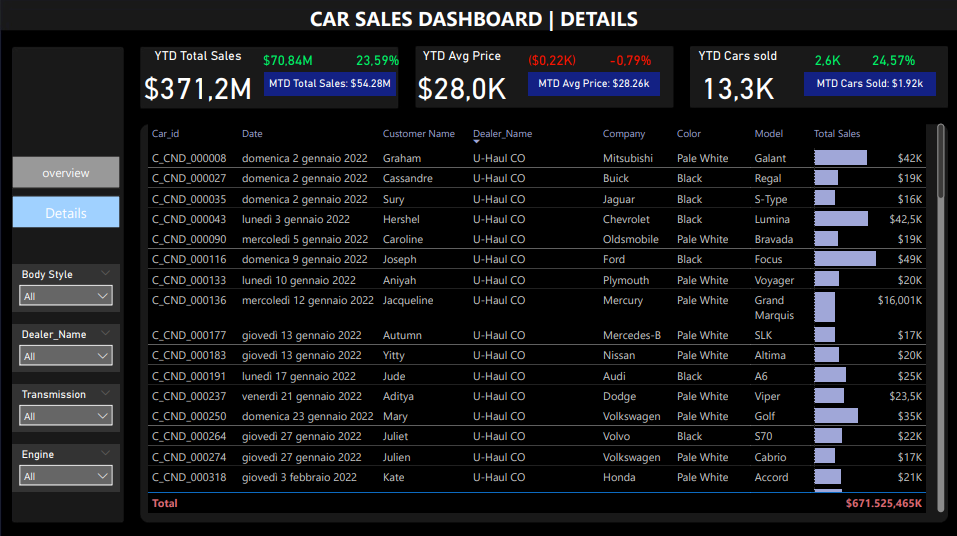

This screenshot's page, from the dashboard's own definition file:
{"tool":"powerbi","page":{"name":"Details","canvas":[1280,720],"ordinal":1},"visuals":[{"type":"card","title":"YTD Total Sales","fields":{"Values":["car_data.Ytd Total Sales"]},"box":[144,64,240,80],"z":0},{"type":"card","fields":{"Values":["car_data.Sales Difference"]},"box":[304,64,160,32],"z":1000},{"type":"card","fields":{"Values":["car_data.YoY sales growth"]},"box":[416,64,176,32],"z":2000},{"type":"card","fields":{"Values":["car_data.MTD KPI"]},"box":[352,96,176,32],"z":3000},{"type":"card","title":"YTD Avg Price","fields":{"Values":["car_data.YTD Avg Price"]},"box":[528,64,176,80],"z":4000},{"type":"card","fields":{"Values":["car_data.Avg price diff"]},"box":[656,64,160,32],"z":5000},{"type":"card","fields":{"Values":["car_data.YoY Avg Price Growth"]},"box":[752,64,176,32],"z":6000},{"type":"card","fields":{"Values":["car_data.MTD avg price KPI"]},"box":[704,96,176,32],"z":7000},{"type":"card","title":"YTD Cars sold","fields":{"Values":["car_data.YTD car sold"]},"box":[896,64,176,80],"z":8000},{"type":"card","fields":{"Values":["car_data.Car sold diff"]},"box":[1024,64,160,32],"z":9000},{"type":"card","fields":{"Values":["car_data.YoY car sold growth"]},"box":[1104,64,176,32],"z":10000},{"type":"card","fields":{"Values":["car_data.MTD Cars sold KPI"]},"box":[1072,96,176,32],"z":11000},{"type":"textbox","box":[0,0,1264,48],"z":12000},{"type":"slicer","fields":{"Values":["car_data.Body Style"]},"box":[16,352,144,64],"z":13000},{"type":"slicer","fields":{"Values":["car_data.Dealer_Name"]},"box":[16,432,144,64],"z":14000},{"type":"slicer","fields":{"Values":["car_data.Transmission"]},"box":[16,512,144,64],"z":15000},{"type":"slicer","fields":{"Values":["car_data.Engine"]},"box":[16,592,144,64],"z":16000},{"type":"tableEx","fields":{"Values":["car_data.Car_id","car_data.Date","car_data.Customer Name","car_data.Dealer_Name","car_data.Company","car_data.Color","car_data.Model","car_data.Total Sales"]},"box":[192,160,1072,528],"z":17000},{"type":"pageNavigator","box":[16,208,144,96],"z":18000}]}

Visuals, with their boxes in screenshot pixels (x1, y1, x2, y2), scaled from the page's 1280x720 canvas onto the 957x536 screenshot:
"YTD Total Sales" card: locate(108, 48, 287, 107)
card - car_data.Sales Difference: locate(227, 48, 347, 71)
card - car_data.YoY sales growth: locate(311, 48, 443, 71)
card - car_data.MTD KPI: locate(263, 71, 395, 95)
"YTD Avg Price" card: locate(395, 48, 526, 107)
card - car_data.Avg price diff: locate(490, 48, 610, 71)
card - car_data.YoY Avg Price Growth: locate(562, 48, 694, 71)
card - car_data.MTD avg price KPI: locate(526, 71, 658, 95)
"YTD Cars sold" card: locate(670, 48, 801, 107)
card - car_data.Car sold diff: locate(766, 48, 885, 71)
card - car_data.YoY car sold growth: locate(825, 48, 956, 71)
card - car_data.MTD Cars sold KPI: locate(801, 71, 933, 95)
textbox: locate(0, 0, 945, 36)
slicer - car_data.Body Style: locate(12, 262, 120, 310)
slicer - car_data.Dealer_Name: locate(12, 322, 120, 369)
slicer - car_data.Transmission: locate(12, 381, 120, 429)
slicer - car_data.Engine: locate(12, 441, 120, 488)
tableEx - car_data.Car_id x car_data.Date: locate(144, 119, 945, 512)
pageNavigator: locate(12, 155, 120, 226)
